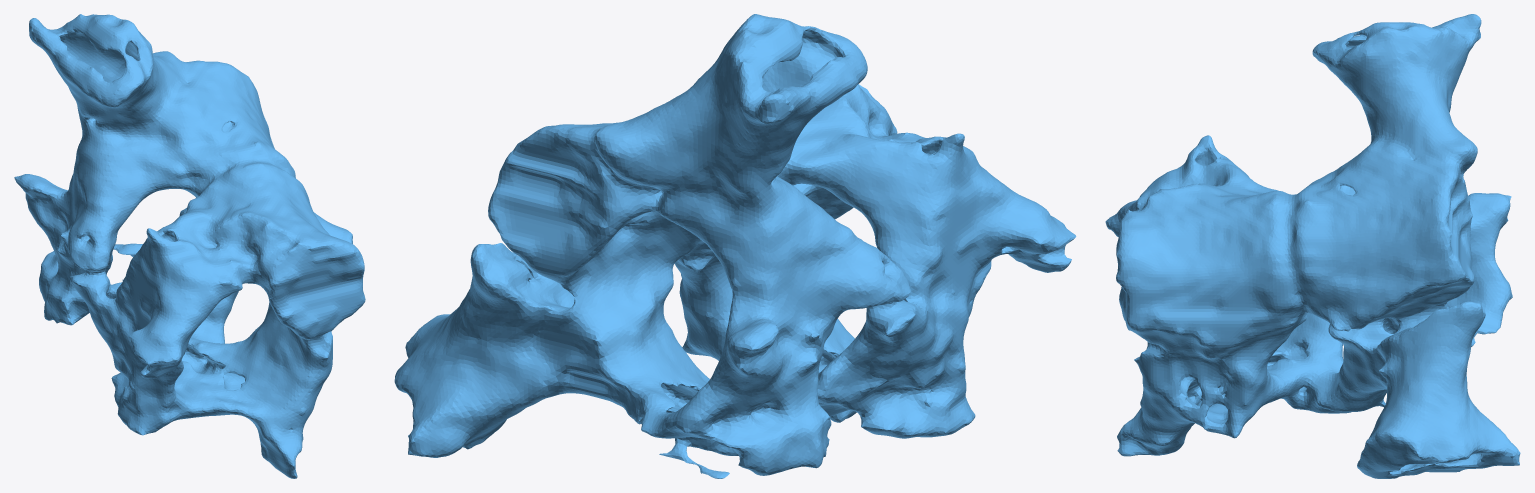
File: sacrals.glb
3 views of the same model, side by side, from view 1: azimuth 30°, elevation 25°; view 2: azimuth 150°, elevation 25°; view 3: azimuth 270°, elevation 25° (orthographic). The views are drawn at different scales.
Parts seen in each view (by area): view 1: sacrals; view 2: sacrals; view 3: sacrals.
Boxes of the visible parts, x1,y1,x2,y2 form: sacrals: (14, 14, 365, 478); sacrals: (394, 14, 1076, 478); sacrals: (1105, 14, 1520, 478).
Size of the model in its own units: 0.0088 by 0.00927 by 0.0086.
